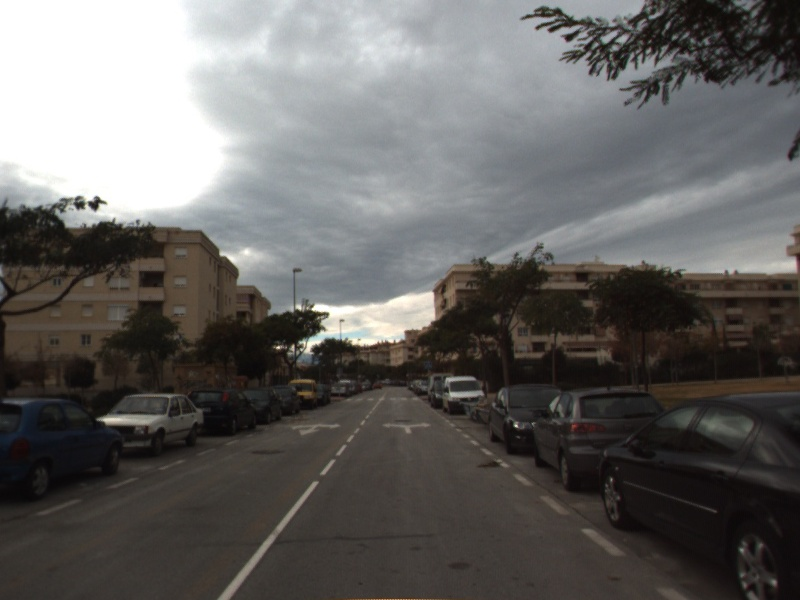LEFT_RIGHT: (380, 419, 434, 436)
